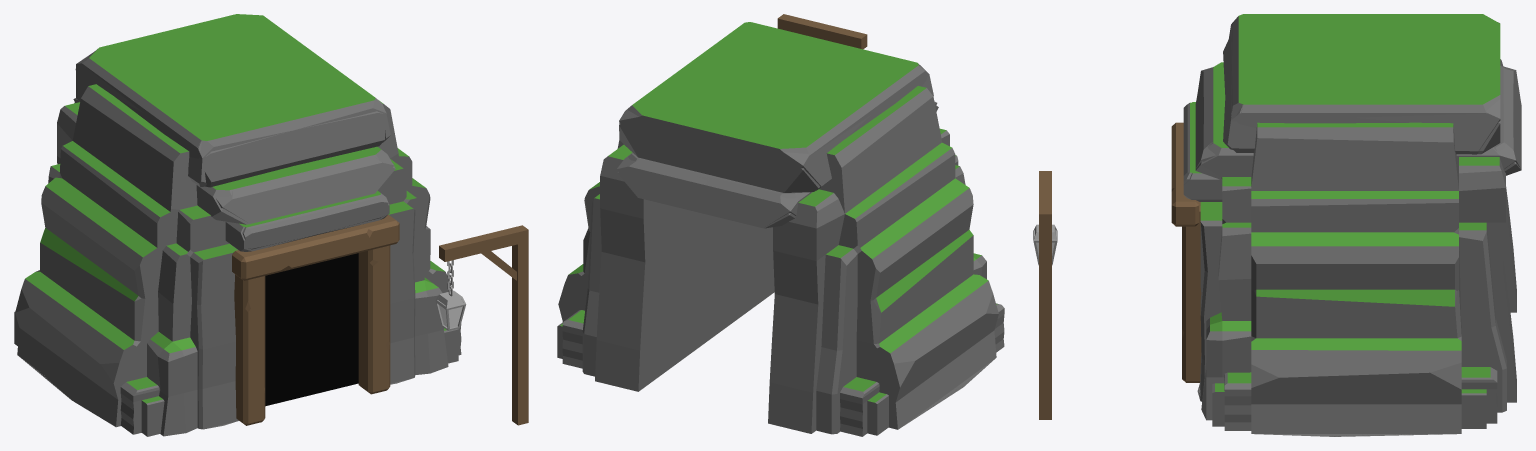
Rendered from Mine.fbx.
3 renders of one model, left to right at view 1: azimuth 30°, elevation 25°; view 2: azimuth 150°, elevation 25°; view 3: azimuth 270°, elevation 25°, orthographic. The views are drawn at different scales.
Visible parts, largest first — view 1: Rock; view 2: Rock; view 3: Rock.
Boxes of the visible parts, x1,y1,x2,y2 form: Rock: (14, 14, 528, 436); Rock: (557, 14, 1004, 436); Rock: (1033, 14, 1521, 436).
Size of the model in its own units: 519 by 384 by 591.
